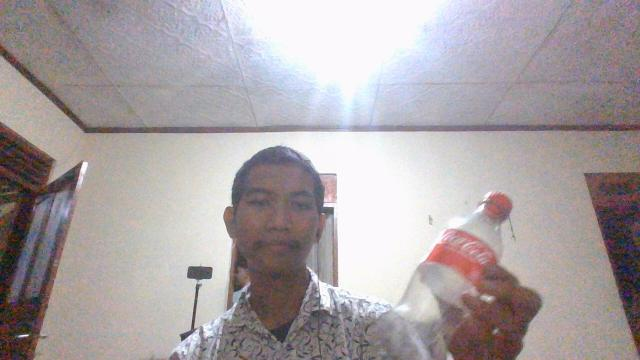coca-cola: (370, 190, 518, 360)
